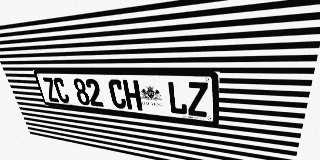2: (84, 79, 104, 107)
8: (72, 78, 91, 106)
C: (107, 79, 127, 109), (52, 78, 71, 103)
H: (122, 80, 143, 111)
L: (167, 81, 188, 115)
Z: (187, 82, 208, 117), (42, 77, 60, 102)
